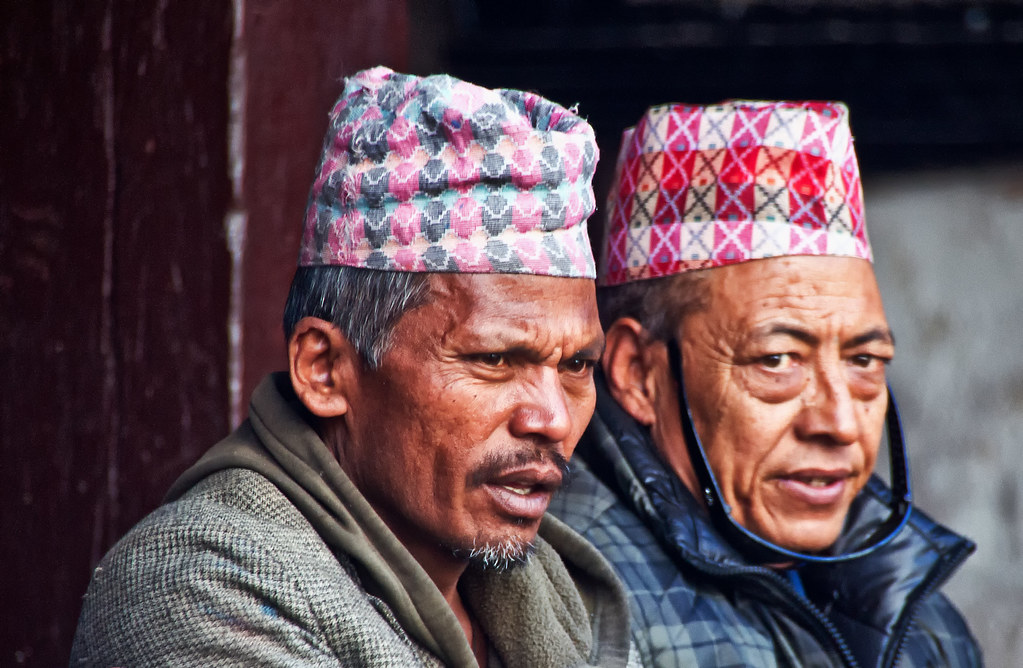human: (58, 61, 647, 668), (565, 78, 1004, 668)
